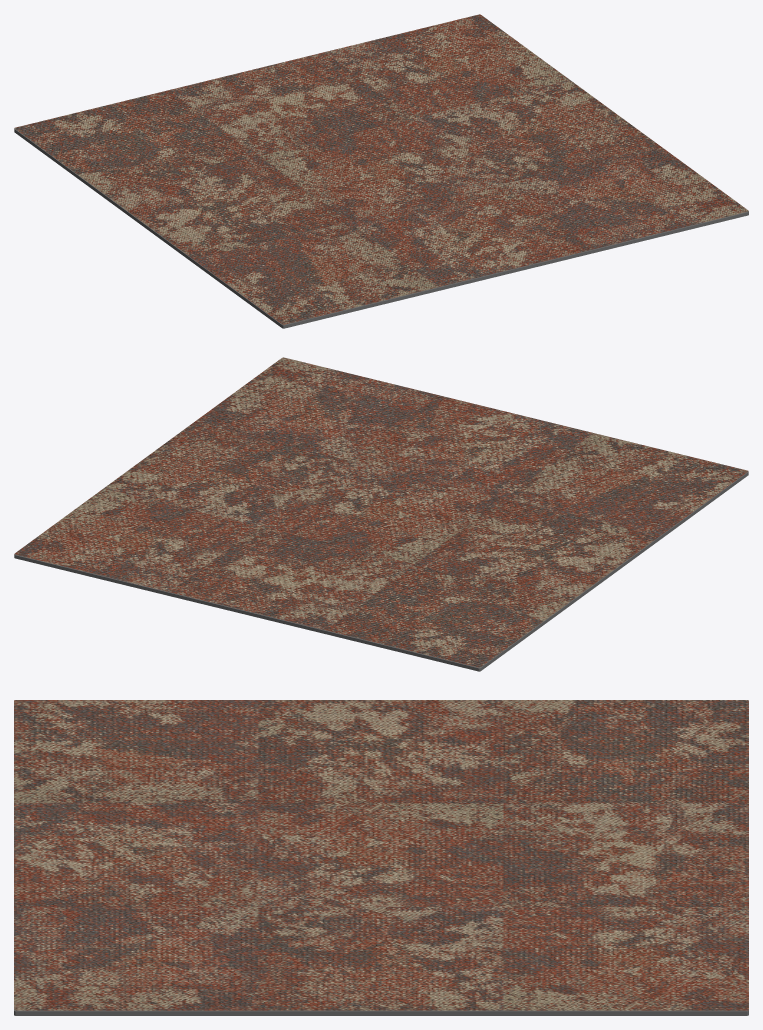
Rendered from tapis_nebulaii_tz01-504.glb.
3 renders of one model, top to bottom at view 1: azimuth 30°, elevation 25°; view 2: azimuth 150°, elevation 25°; view 3: azimuth 270°, elevation 25°, orthographic. The views are drawn at different scales.
Parts seen in each view (by area): view 1: Plane, Cube; view 2: Plane, Cube; view 3: Plane, Cube.
Part boxes in pixels (x1,y1,x2,y2): Plane: [14, 14, 748, 324]; Cube: [14, 128, 748, 328]; Plane: [14, 357, 748, 667]; Cube: [14, 471, 748, 671]; Plane: [14, 700, 748, 1010]; Cube: [14, 1009, 748, 1015].
Size of the model in its own units: 1.5 by 0.0118 by 1.5.
2 materials, 1 textured.
